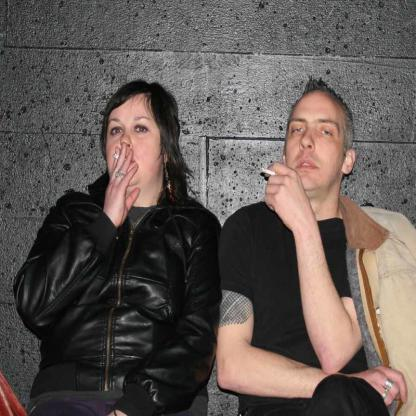smoking: (260, 168, 280, 177), (112, 154, 125, 160)
